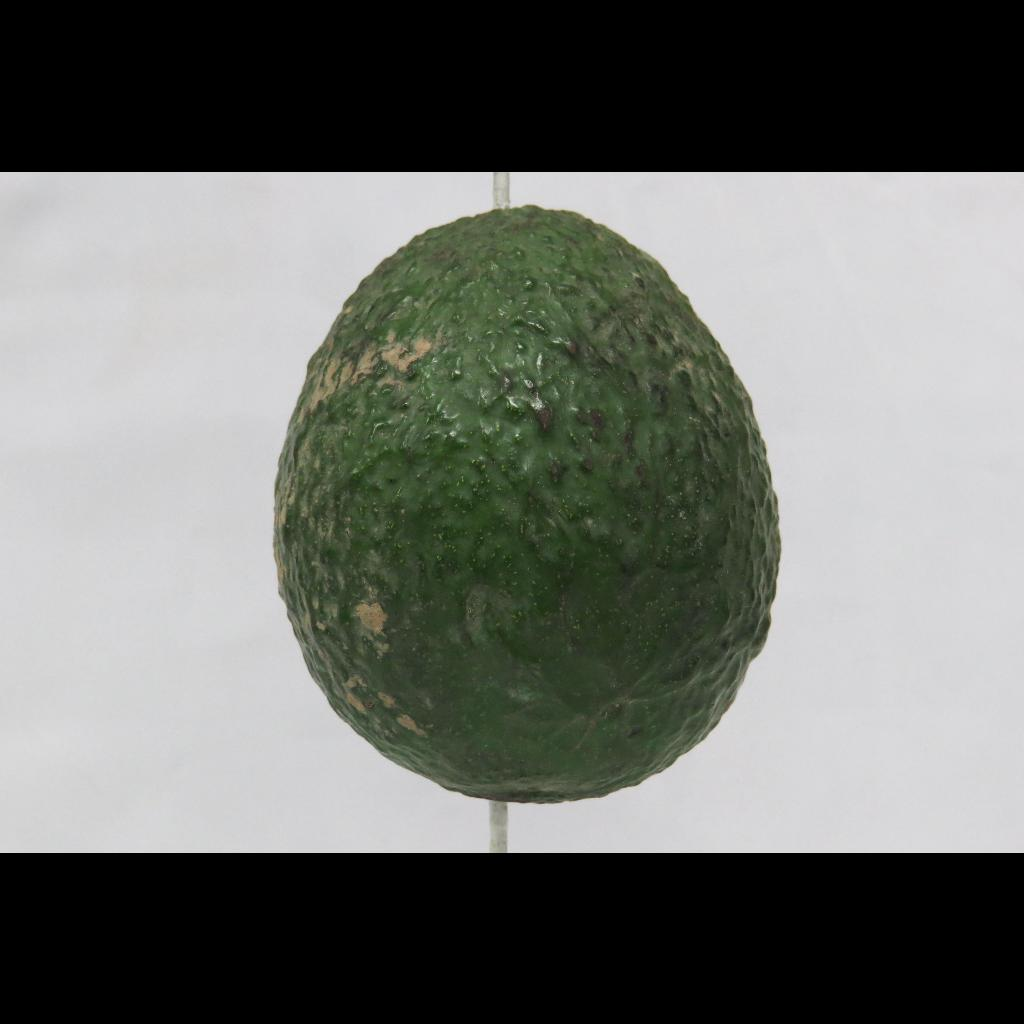fruto_sano: (210, 188, 803, 815)
